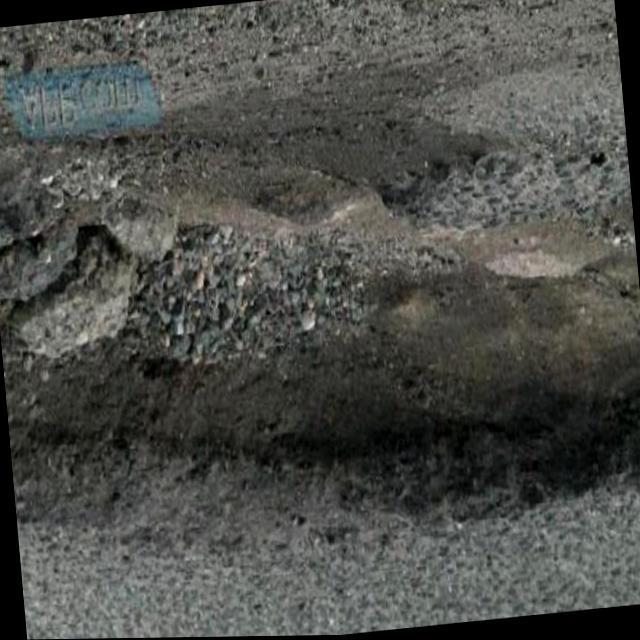Potholes: (26, 227, 624, 552)
